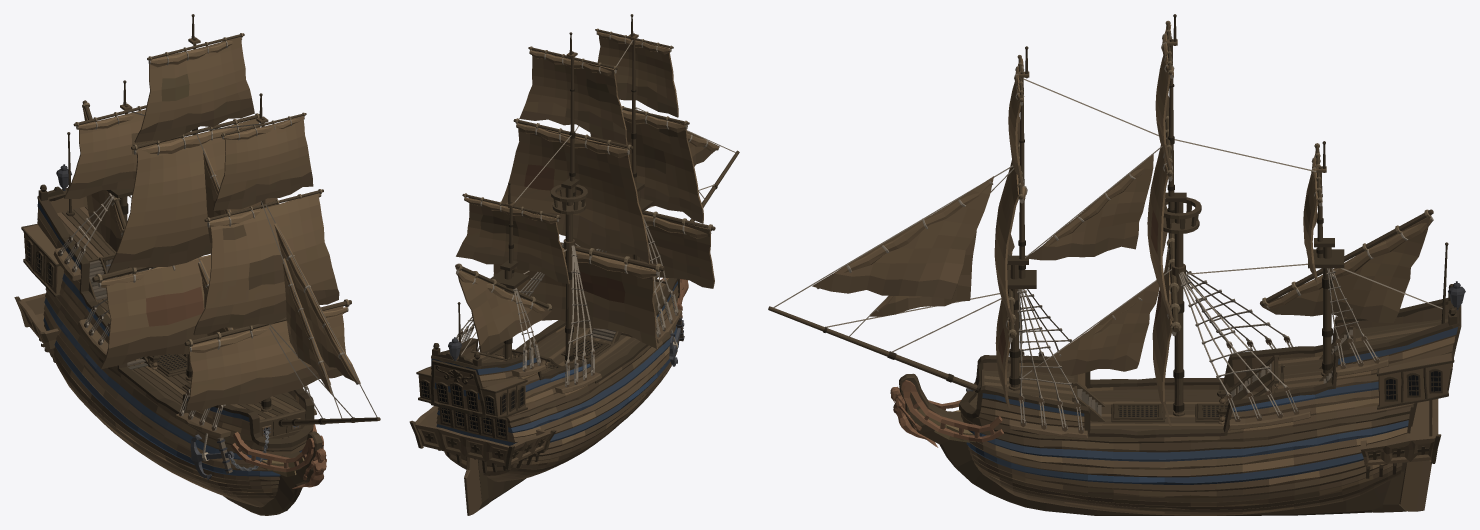
The model's file is SM_Veh_Boat_Warship_01_Hull_Upsized_Pirate.glb.
3 views of the same model, side by side, from view 1: azimuth 30°, elevation 25°; view 2: azimuth 150°, elevation 25°; view 3: azimuth 270°, elevation 25° (orthographic). The views are drawn at different scales.
Parts seen in each view (by area): view 1: SM_Veh_Boat_Warship_01_Mast_SailUp_03_Upsized_Pirate; view 2: SM_Veh_Boat_Warship_01_Mast_SailUp_03_Upsized_Pirate; view 3: SM_Veh_Boat_Warship_01_Mast_SailUp_03_Upsized_Pirate.
Boxes of the visible parts, x1,y1,x2,y2 form: SM_Veh_Boat_Warship_01_Mast_SailUp_03_Upsized_Pirate: [14, 14, 380, 515]; SM_Veh_Boat_Warship_01_Mast_SailUp_03_Upsized_Pirate: [409, 14, 739, 515]; SM_Veh_Boat_Warship_01_Mast_SailUp_03_Upsized_Pirate: [768, 14, 1465, 515].
Bounding box in the file's own units: 0.2189 × 0.4726 × 0.5962.
